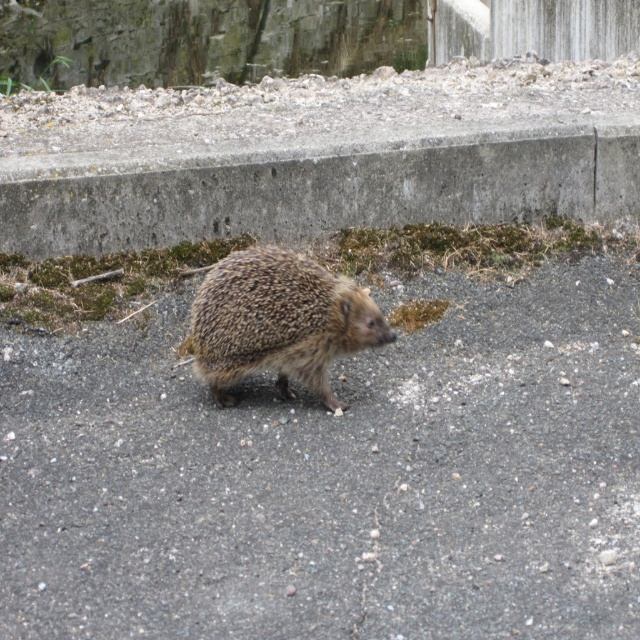Hedgehog: (189, 243, 399, 412)
